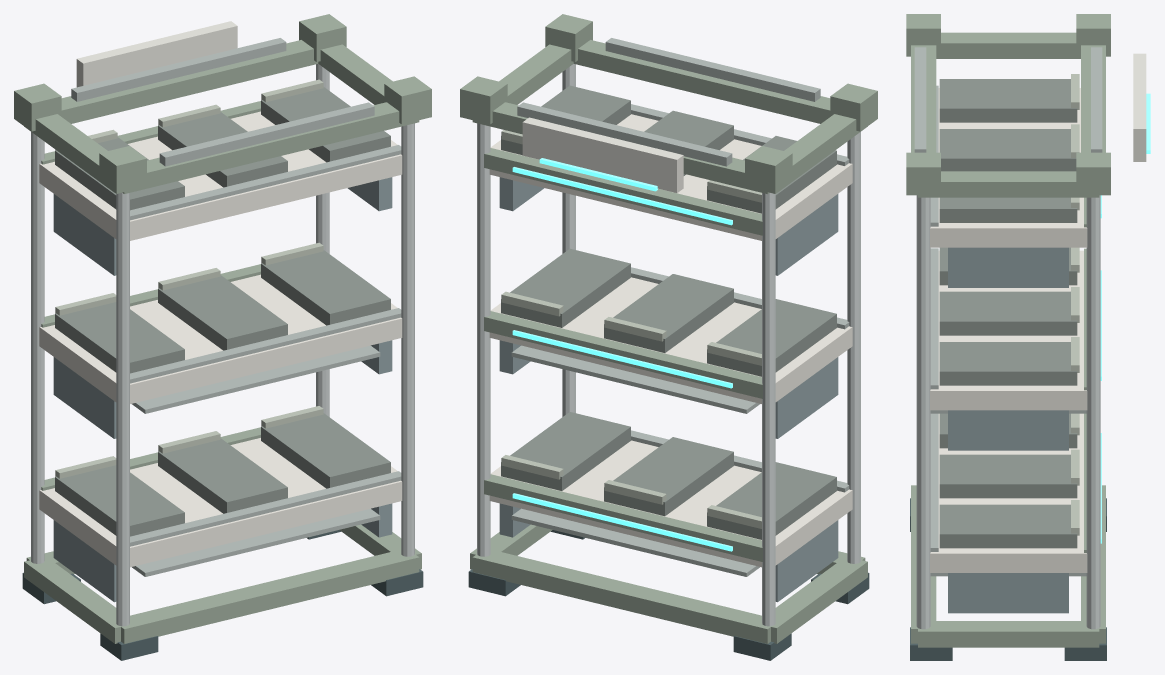
Rendered from s7-e0e1-rs01-nursery-3-tier.glb.
The picture shows the model from 3 angles, left to right: view 1: azimuth 30°, elevation 25°; view 2: azimuth 150°, elevation 25°; view 3: azimuth 270°, elevation 25°; orthographic projection.
Parts seen in each view (by area): view 1: tray-load-deck-016, tray-load-deck-022, tray-load-deck-028, rack-long-rail-009, chrome-vertical-post-002, chrome-vertical-post-006, empty-nursery-tray-044, empty-nursery-tray-046, empty-nursery-tray-050, empty-nursery-tray-052, chrome-vertical-post-000, rack-long-rail-012 (+42 smaller); view 2: rack-long-rail-008, tray-load-deck-022, tray-load-deck-016, rack-identity-panel-062, chrome-vertical-post-000, chrome-vertical-post-004, chrome-vertical-post-002, rack-long-rail-013, tray-load-deck-028, empty-nursery-tray-044, empty-nursery-tray-050, empty-nursery-tray-052 (+44 smaller); view 3: tray-load-deck-022, tray-load-deck-016, chrome-vertical-post-006, chrome-vertical-post-004, empty-nursery-tray-050, empty-nursery-tray-044, empty-nursery-tray-046, empty-nursery-tray-052, empty-nursery-tray-054, empty-nursery-tray-056, tray-load-deck-028, shelf-support-021 (+26 smaller).
Part boxes in pixels (left/top/right/bottom): tray-load-deck-016: left=39, top=438, right=402, bottom=567; tray-load-deck-022: left=39, top=274, right=402, bottom=403; tray-load-deck-028: left=39, top=111, right=402, bottom=240; rack-long-rail-009: left=112, top=551, right=419, bottom=643; chrome-vertical-post-002: left=116, top=193, right=129, bottom=626; chrome-vertical-post-006: left=401, top=123, right=414, bottom=556; empty-nursery-tray-044: left=158, top=438, right=287, bottom=513; empty-nursery-tray-046: left=261, top=413, right=390, bottom=488; empty-nursery-tray-050: left=158, top=275, right=287, bottom=350; empty-nursery-tray-052: left=261, top=250, right=390, bottom=325; chrome-vertical-post-000: left=31, top=132, right=44, bottom=563; rack-long-rail-012: left=61, top=40, right=318, bottom=123; rack-long-rail-008: left=472, top=550, right=779, bottom=643; tray-load-deck-022: left=489, top=277, right=852, bottom=403; tray-load-deck-016: left=489, top=440, right=852, bottom=567; rack-identity-panel-062: left=522, top=117, right=683, bottom=192; chrome-vertical-post-000: left=762, top=193, right=775, bottom=626; chrome-vertical-post-004: left=477, top=123, right=490, bottom=556; chrome-vertical-post-002: left=847, top=132, right=860, bottom=563; rack-long-rail-013: left=573, top=40, right=830, bottom=123; tray-load-deck-028: left=489, top=114, right=852, bottom=240; empty-nursery-tray-044: left=604, top=437, right=733, bottom=516; empty-nursery-tray-050: left=604, top=274, right=733, bottom=352; empty-nursery-tray-052: left=501, top=248, right=630, bottom=327; tray-load-deck-022: left=930, top=250, right=1087, bottom=410; tray-load-deck-016: left=930, top=413, right=1087, bottom=572; chrome-vertical-post-006: left=916, top=195, right=930, bottom=629; chrome-vertical-post-004: left=1086, top=195, right=1100, bottom=629; empty-nursery-tray-050: left=939, top=291, right=1077, bottom=335; empty-nursery-tray-044: left=939, top=454, right=1077, bottom=498; empty-nursery-tray-046: left=939, top=504, right=1077, bottom=548; empty-nursery-tray-052: left=939, top=342, right=1077, bottom=385; empty-nursery-tray-054: left=939, top=79, right=1077, bottom=122; empty-nursery-tray-056: left=939, top=129, right=1076, bottom=171; tray-load-deck-028: left=930, top=88, right=1087, bottom=247; shelf-support-021: left=948, top=573, right=1068, bottom=613.
Bounding box in the file's own units: 0.94 × 1.42 × 0.633.
